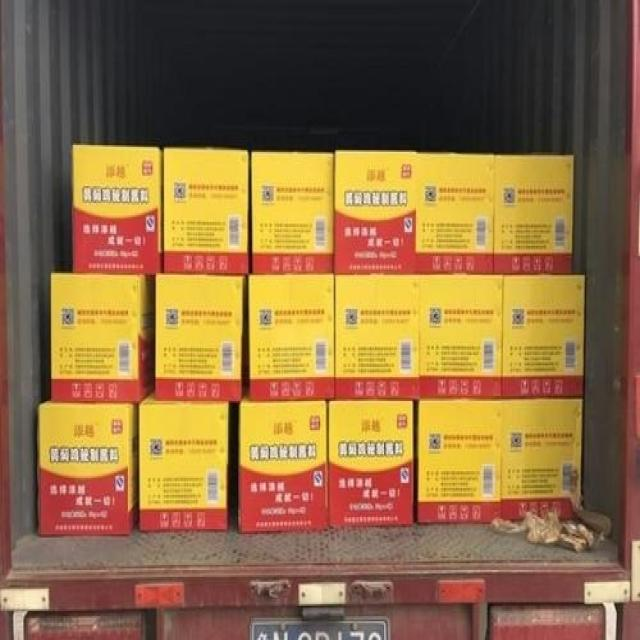box: (38, 399, 139, 536), (51, 273, 156, 403), (139, 388, 228, 530), (239, 393, 329, 532), (73, 144, 163, 274), (155, 274, 245, 401), (248, 273, 335, 401), (163, 146, 250, 273), (335, 274, 420, 401), (329, 400, 413, 527), (417, 398, 502, 523), (419, 274, 504, 397), (334, 150, 417, 275), (503, 273, 585, 398), (251, 152, 334, 274), (501, 398, 582, 520), (415, 152, 493, 274), (494, 155, 574, 273)
